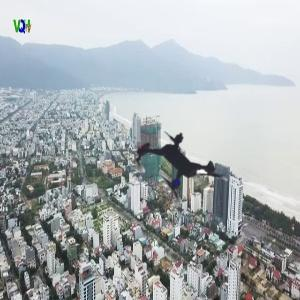drone: (107, 98, 248, 239)
